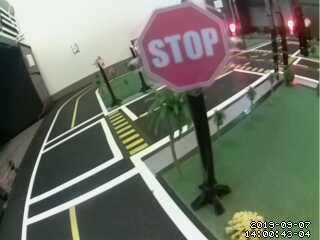Stop_Sign: (133, 3, 232, 85)
